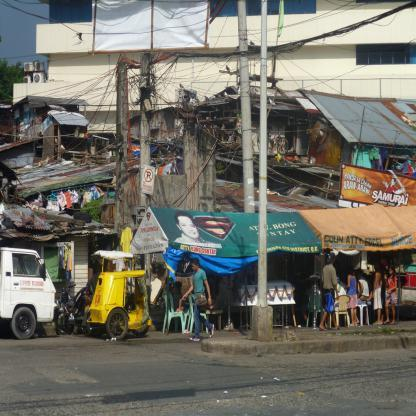truck: (1, 252, 60, 341)
